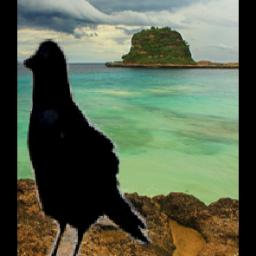Crow: (19, 35, 153, 256)
